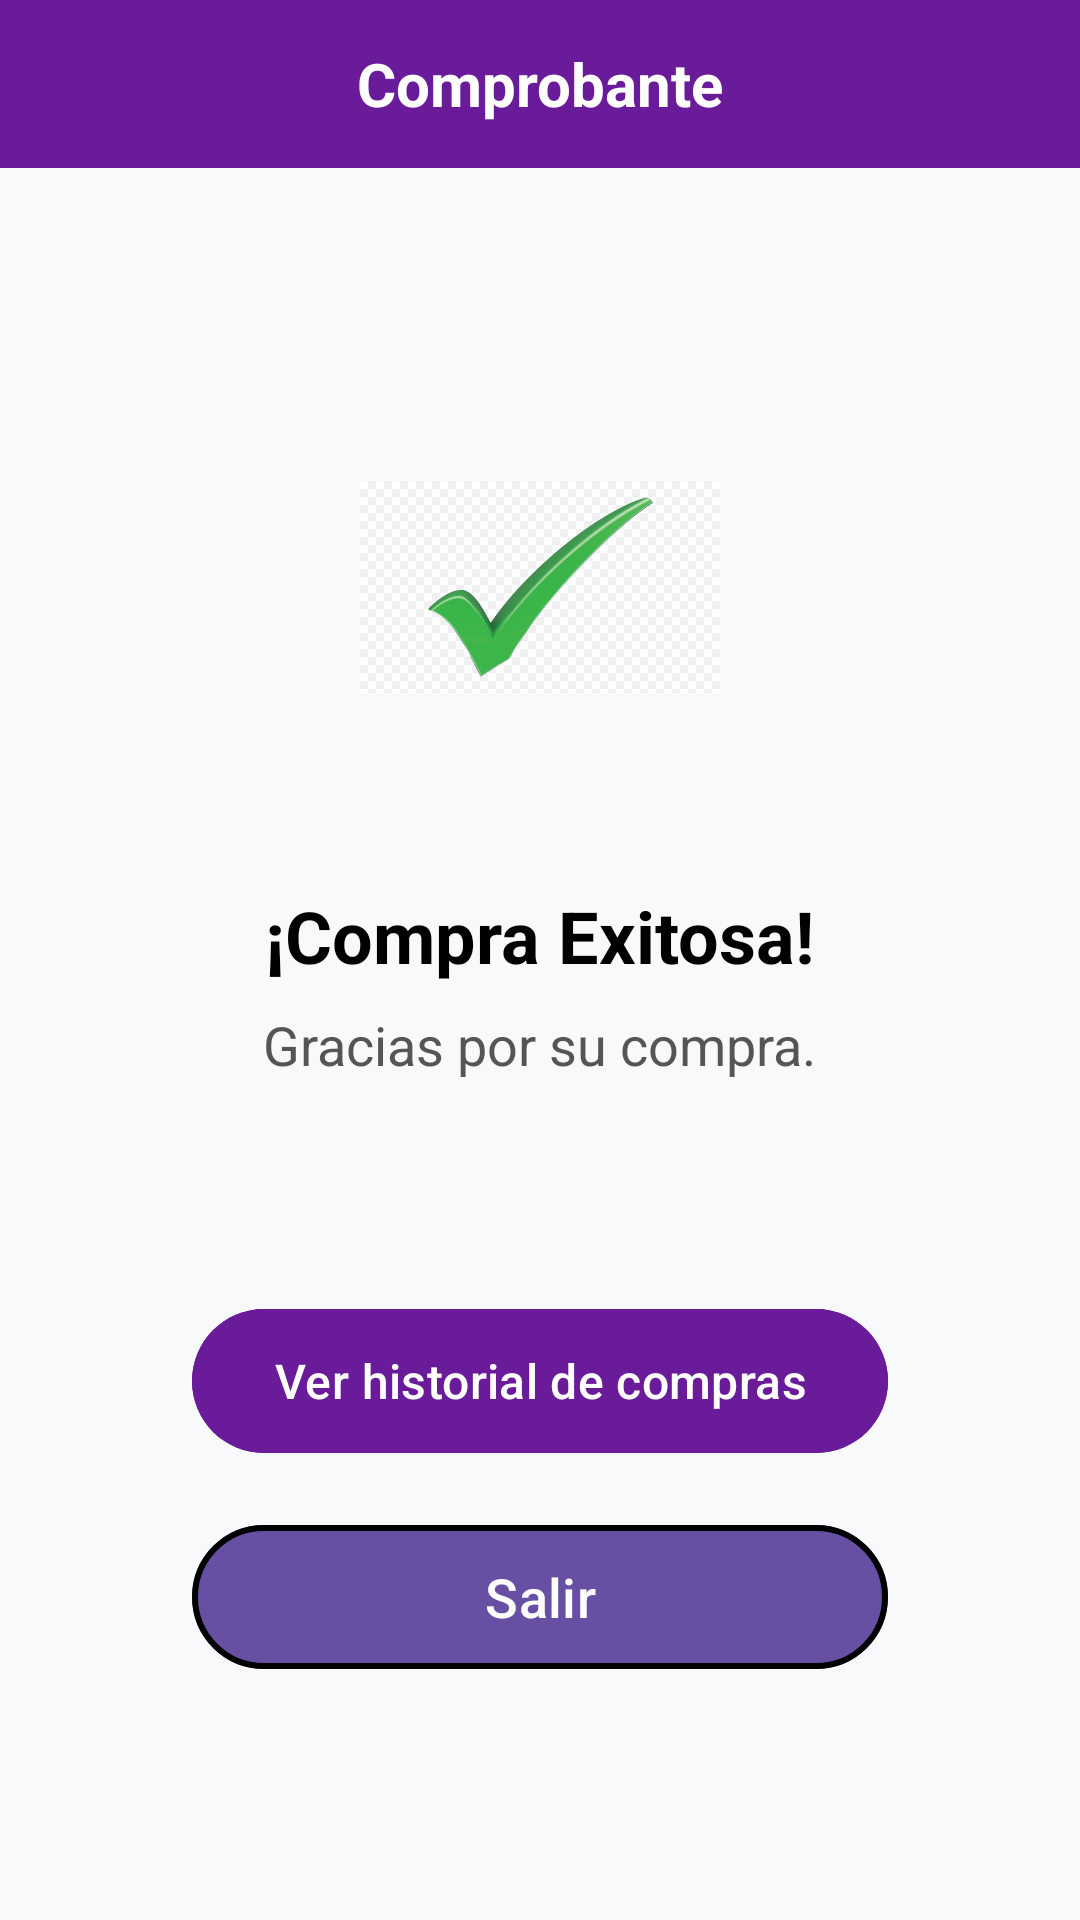

Screen size 1080 × 1920. Icon name, then its center in pixels as (x=x, y=y):
check: (x=540, y=587)
